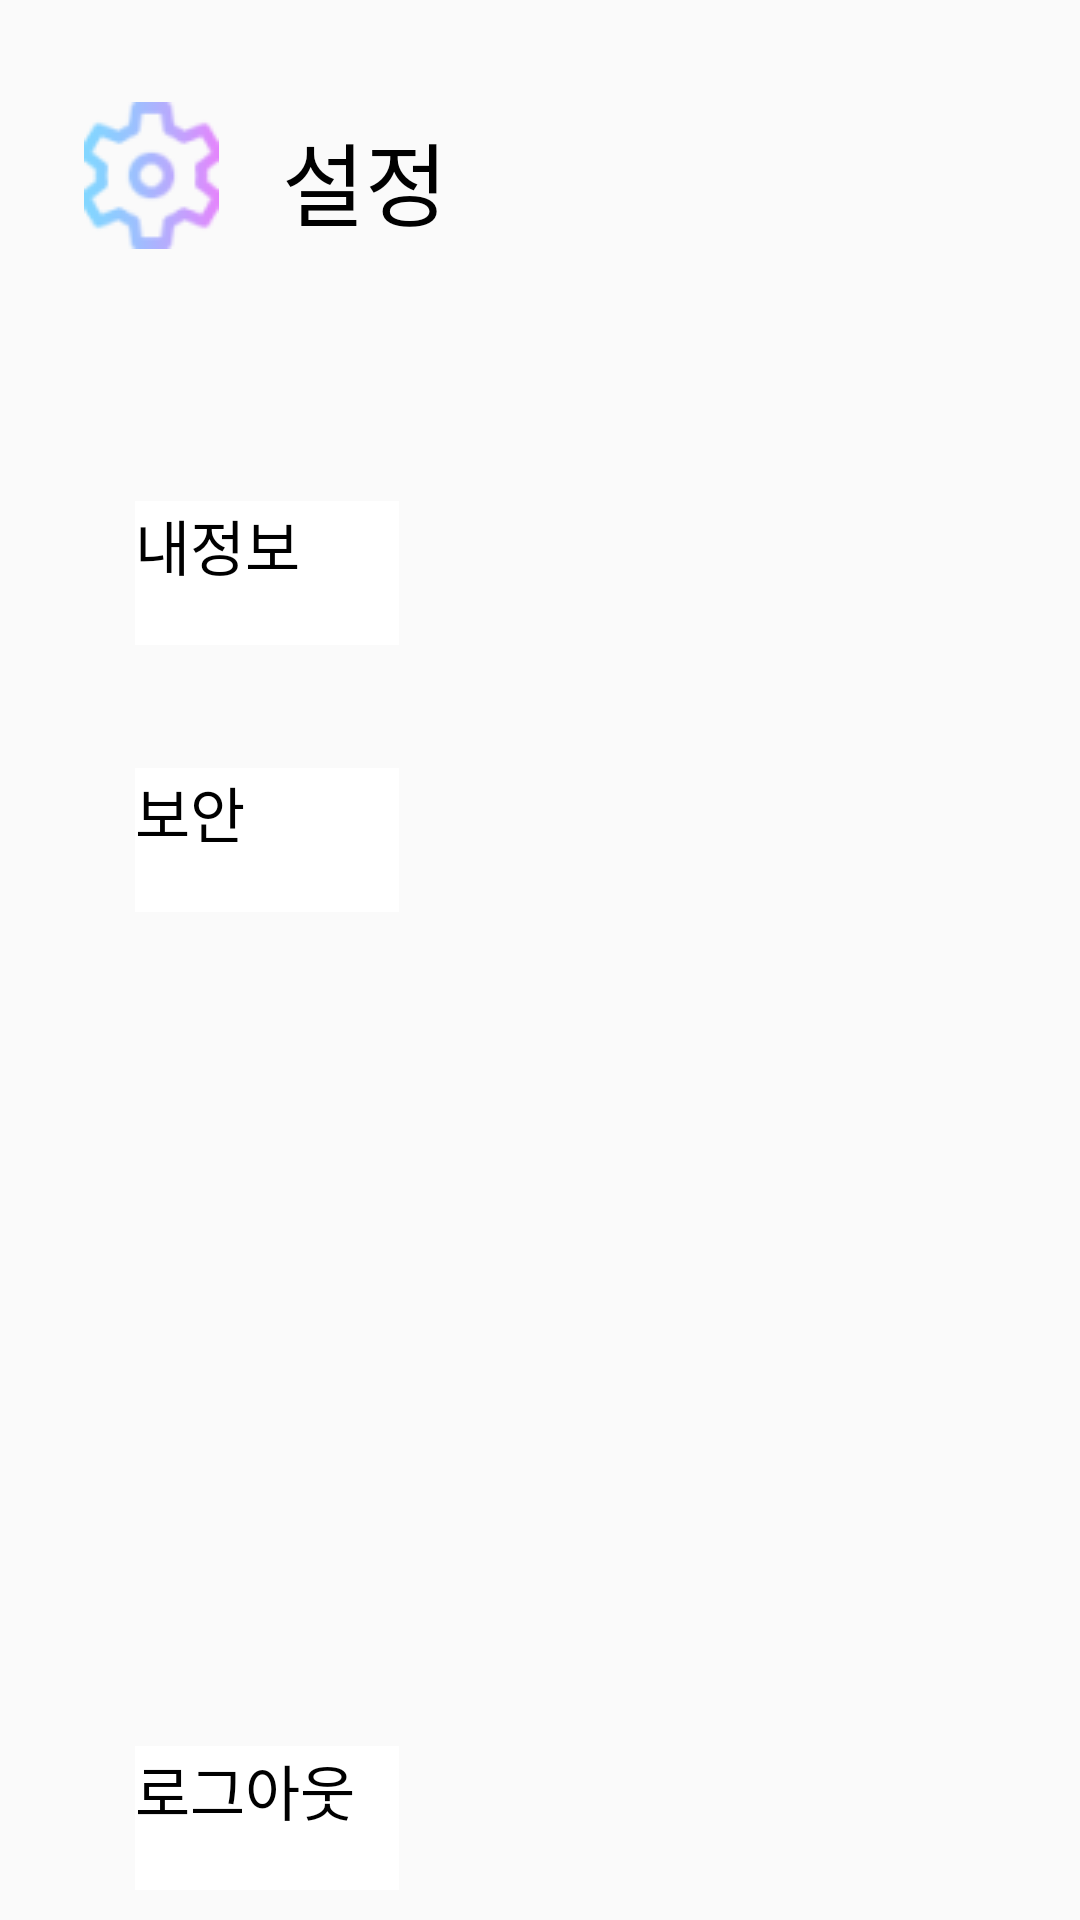

Icons on this 1080x1920 Android screen, each with the point to tap as (x=x, y=y):
option set: (x=151, y=175)
